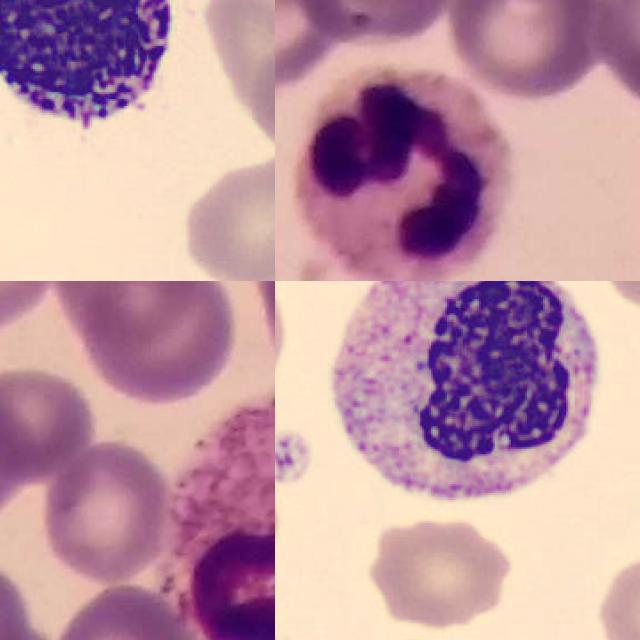Basophil: (0, 0, 189, 153)
Monocyte: (315, 281, 615, 525)
Neutrophil: (290, 65, 512, 281), (163, 386, 275, 640)
RBC: (360, 513, 516, 633), (173, 150, 275, 281), (193, 0, 275, 158), (591, 539, 640, 640), (246, 39, 275, 160)
